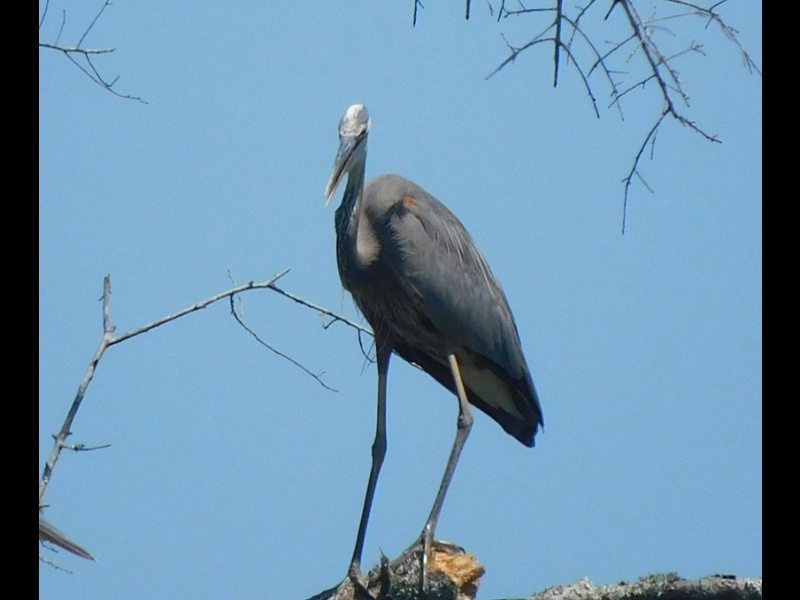heron: (326, 97, 546, 577)
